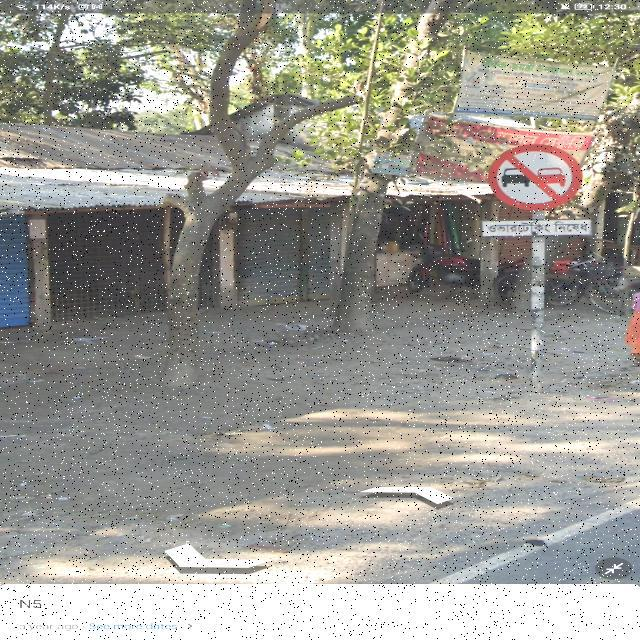Don-t-Overtracking: (447, 106, 614, 276)
